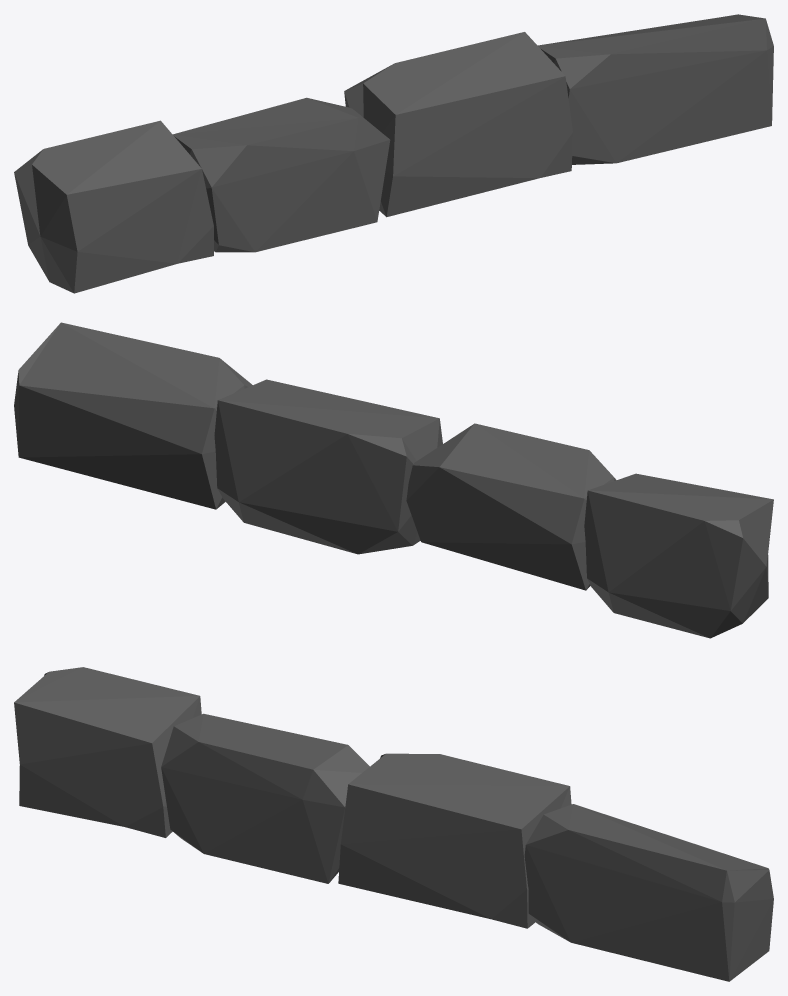
The model's file is foundation_008.glb.
3 views of the same model, one above another, from view 1: azimuth 30°, elevation 25°; view 2: azimuth 150°, elevation 25°; view 3: azimuth 330°, elevation 25° (orthographic).
Parts seen in each view (by area): view 1: foundation_008; view 2: foundation_008; view 3: foundation_008.
Part boxes in pixels (x1,y1,x2,y2): foundation_008: (14,14,773,293); foundation_008: (14,322,773,638); foundation_008: (14,667,773,981).
Size of the model in its own units: 7.73 by 1.26 by 0.9627.
1 material, 1 textured.
